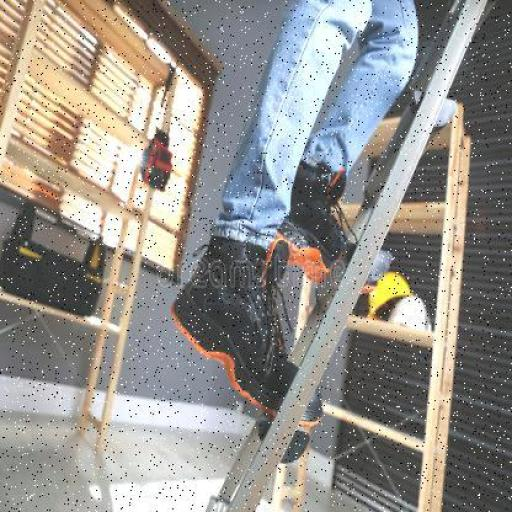safety_shoe: (176, 234, 330, 420), (269, 158, 389, 296)
